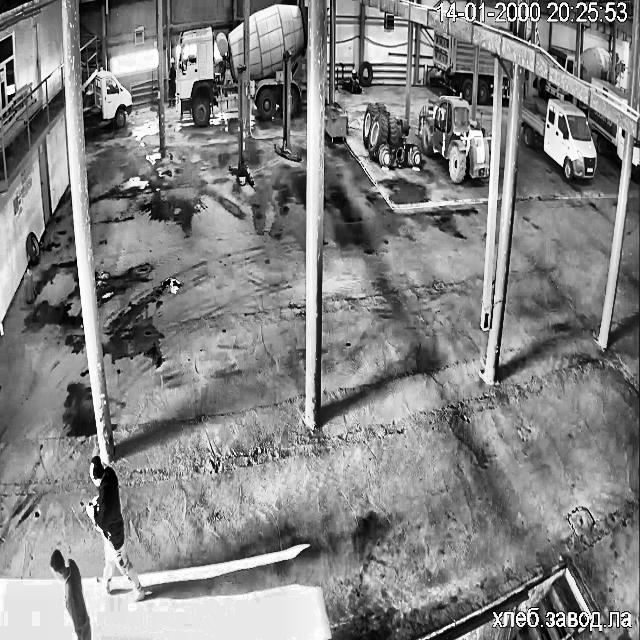class4: (86, 455, 144, 600), (50, 548, 90, 638), (168, 58, 176, 106)
class6: (418, 96, 489, 182), (362, 102, 420, 167)
class7: (176, 22, 244, 124), (248, 4, 306, 117), (521, 99, 596, 180), (433, 28, 474, 101), (84, 69, 132, 126), (588, 108, 624, 158), (580, 45, 611, 82), (477, 48, 494, 101), (592, 78, 627, 100), (534, 77, 570, 98), (549, 45, 574, 73), (500, 61, 510, 98), (632, 140, 640, 180), (616, 130, 624, 160), (616, 53, 622, 76)
truck: (229, 66, 253, 186), (274, 52, 300, 161)
